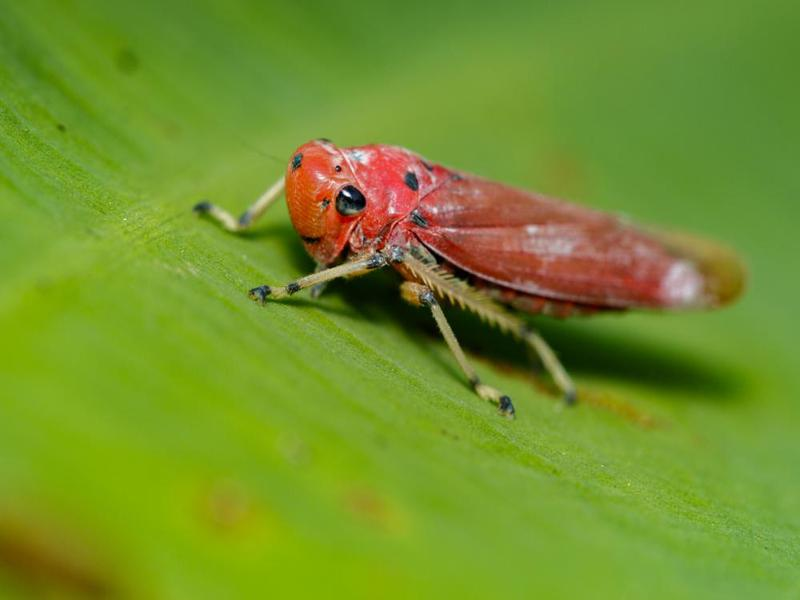Brown_plant_leafhopper: (189, 116, 758, 399)
